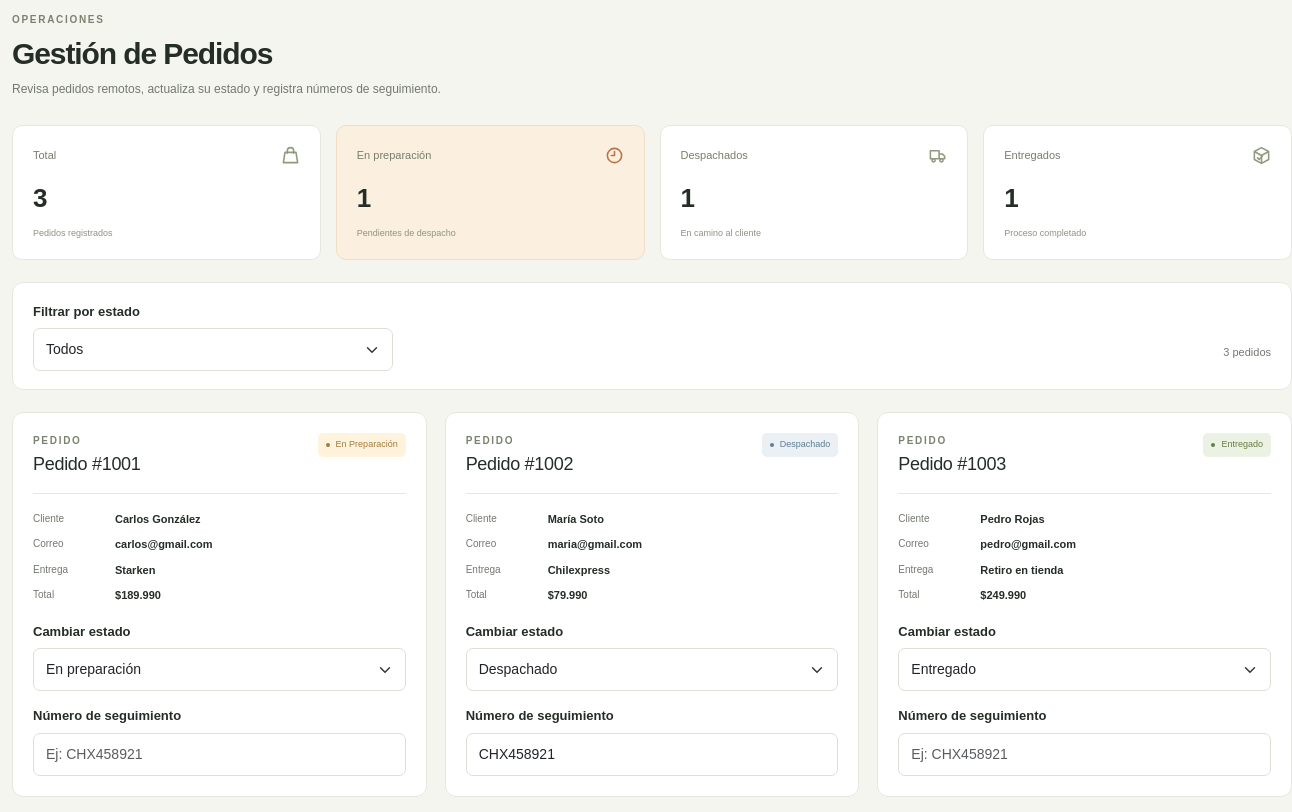
Scenario: permite filtrar pedidos por estado
The width and height of the screenshot is (1292, 812).
Select "Despachado" in the dropdown labelled "Filtrar por estado" at coordinates (213, 350), box [33,328,393,371]
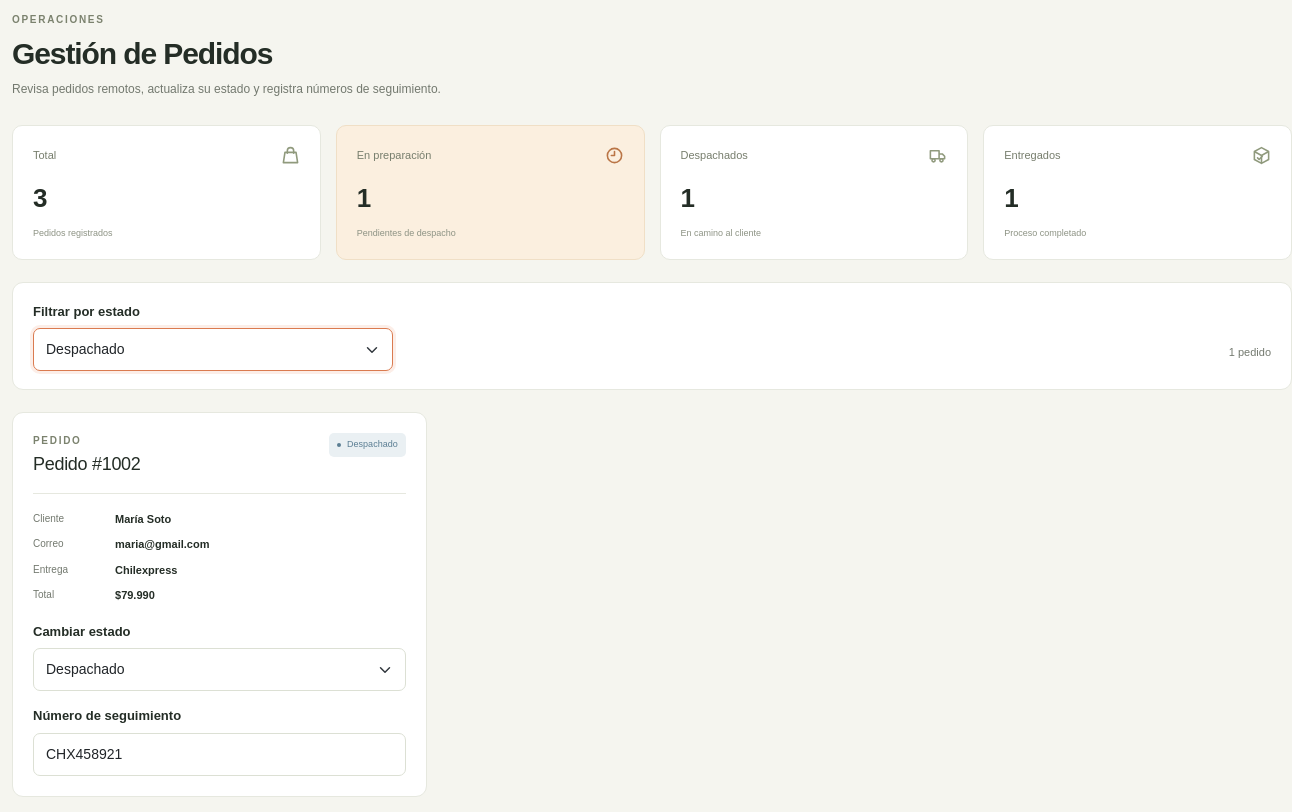
Expected: the heading "Pedido #1002" is shown, [33,454,140,476]
Expected: the heading "Pedido #1001" is gone
